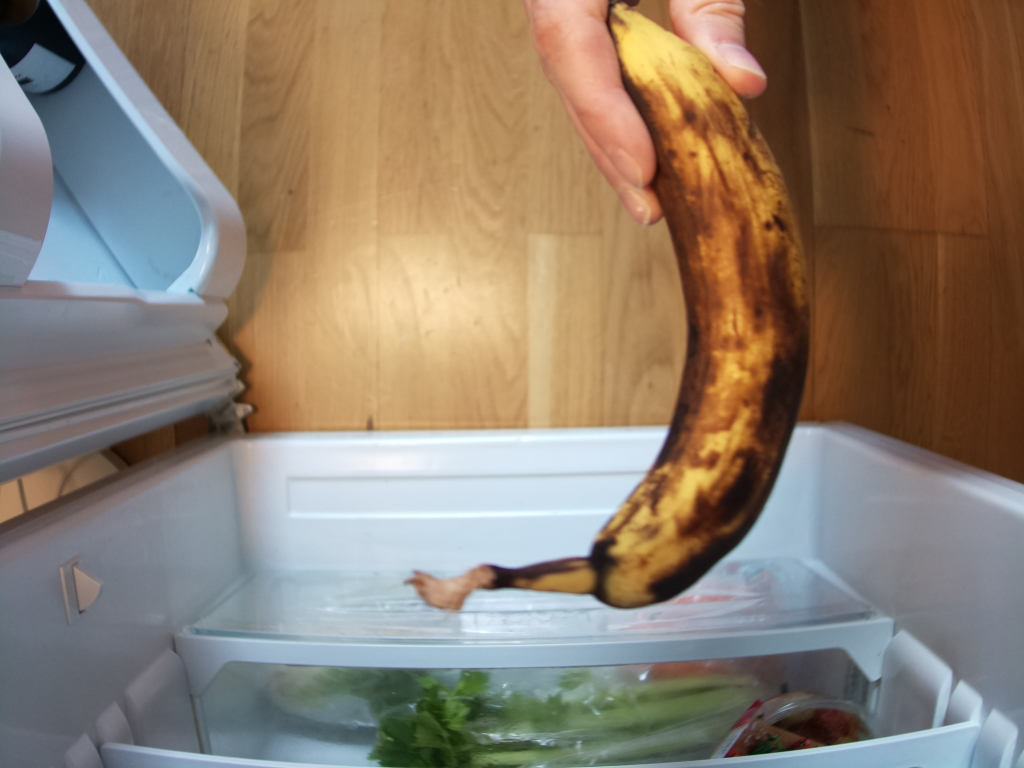banana-overripe: (405, 1, 810, 614)
